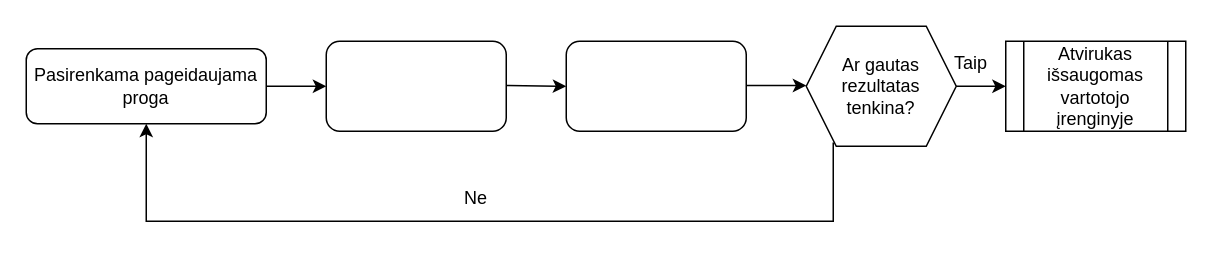
Some shapes in this 1212 by 260 pixel diagram are drawn without their labels. The centre of each missing label's shape, as x and y in pixels:
"Pasirenkamas siūlomas tos progos fono variantas" belongs at point (415, 85).
"Pozicionuojamas atviruko turinys (vieta tekstui ir dekoracijos)" belongs at point (655, 85).
